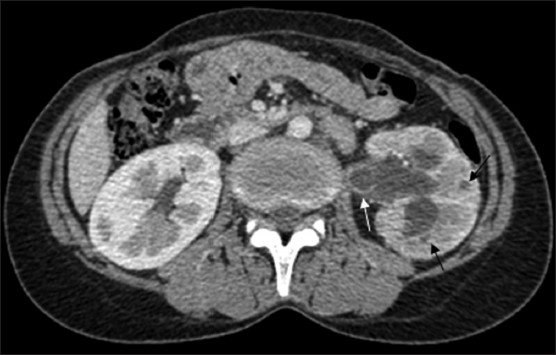anomaly: (345, 163, 383, 197)
